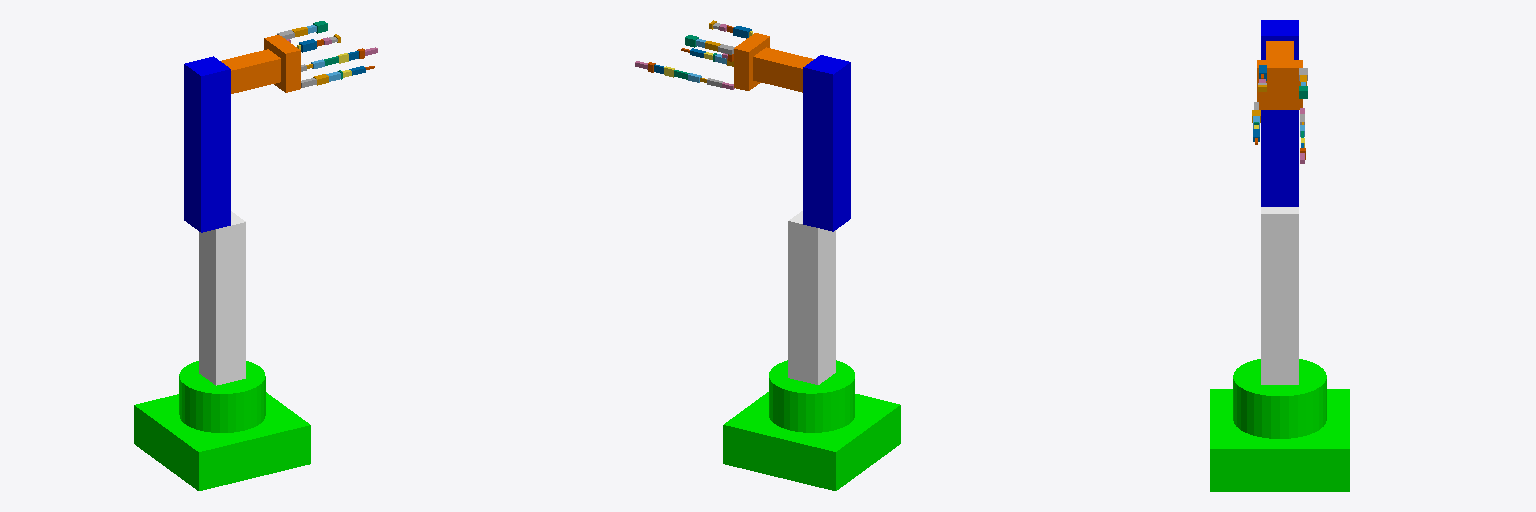
--- What the picture shows (computed from the rendered views, not written in the file) ---
Views: 3 orthographic renders of the robot side by side, from view 1: azimuth 30°, elevation 25°; view 2: azimuth 150°, elevation 25°; view 3: azimuth 270°, elevation 25°.
Model robot with 33 links and 32 joints (29 revolute, 1 continuous, 2 fixed), rooted at base_link, posed every joint at zero.
Visible links, largest first — view 1: base_link, arm_link, support_link, wrist_link, palm_link; view 2: base_link, arm_link, support_link, wrist_link, palm_link; view 3: base_link, support_link, arm_link, palm_link, wrist_link.
Boxes of the visible links, x1,y1,x2,y2 form: base_link: [134, 361, 310, 490]; arm_link: [184, 56, 230, 232]; support_link: [199, 211, 245, 385]; wrist_link: [221, 49, 280, 93]; palm_link: [264, 35, 300, 92]; base_link: [723, 360, 900, 490]; arm_link: [803, 55, 850, 231]; support_link: [788, 211, 835, 384]; wrist_link: [753, 47, 813, 92]; palm_link: [734, 33, 769, 90]; base_link: [1210, 359, 1349, 491]; support_link: [1261, 207, 1298, 384]; arm_link: [1261, 20, 1298, 206]; palm_link: [1257, 60, 1302, 109]; wrist_link: [1266, 41, 1293, 59].
Bounding box of the posed robot: 1.48 × 0.75 × 2.55 m (x, y, z).
Geometry: primitives only (box / cylinder / sphere), no mesh files.

robot.urdf — robot:
<?xml version='1.0' encoding='utf-8'?>
<robot name="robot">
  <link name="base_link">
    <visual>
      <origin xyz="0 0 0.125" rpy="0 0 0" />
      <geometry>
        <box size="0.75 0.75 0.25" />
      </geometry>
      <material name="green" />
    </visual>
    <visual>
      <origin xyz="0 0 0.375" rpy="0 0 0" />
      <geometry>
        <cylinder length="0.25" radius="0.25" />
      </geometry>
      <material name="green">
        <color rgba="0 1 0 1" />
      </material>
    </visual>
    <collision>
      <geometry>
        <box size="0.75 0.75 0.5" />
      </geometry>
    </collision>
    <inertial>
      <mass value="0.5" />
      <inertia ixx="0.034" ixy="0.0" ixz="0.0" iyy="0.034" iyz="0.0" izz="0.034" />
    </inertial>
  </link>
  <link name="support_link">
    <visual>
      <origin xyz="0 0 0.5" rpy="0 0 0" />
      <geometry>
        <box size="0.2 0.2 1" />
      </geometry>
      <material name="white">
        <color rgba="1 1 1 1" />
      </material>
    </visual>
    <collision>
      <geometry>
        <box size="0.2 0.2 1" />
      </geometry>
    </collision>
    <inertial>
      <mass value="0.1" />
      <inertia ixx="0.01" ixy="0.0" ixz="0.0" iyy="0.01" iyz="0.0" izz="0.01" />
    </inertial>
  </link>
  <joint name="support_joint" type="continuous">
    <origin xyz="0 0 0.5" rpy="0 0 0" />
    <parent link="base_link" />
    <child link="support_link" />
    <axis xyz="0 0 1" />
  </joint>
  <link name="arm_link">
    <visual>
      <origin xyz="0 0 0.5" rpy="0 0 0" />
      <geometry>
        <box size="0.2 0.2 1" />
      </geometry>
      <material name="blue">
        <color rgba="0 0 1 1" />
      </material>
    </visual>
    <collision>
      <geometry>
        <box size="0.2 0.2 1" />
      </geometry>
    </collision>
    <inertial>
      <mass value="0.1" />
      <inertia ixx="0.01" ixy="0.0" ixz="0.0" iyy="0.01" iyz="0.0" izz="0.01" />
    </inertial>
  </link>
  <joint name="arm_joint" type="revolute">
    <origin xyz="-0.1 0 1" rpy="0 0 0" />
    <parent link="support_link" />
    <child link="arm_link" />
    <axis xyz="0 1 0" />
    <limit lower="-3.14" upper="3.14" effort="1.0" velocity="1.0" />
  </joint>
  <link name="wrist_link">
    <visual>
      <origin xyz="0 0 0.25" rpy="0 0 0" />
      <geometry>
        <box size="0.15 0.15 0.5" />
      </geometry>
      <material name="orange">
        <color rgba="1 0.5 0 1" />
      </material>
    </visual>
    <collision>
      <geometry>
        <box size="0.15 0.15 0.5" />
      </geometry>
    </collision>
    <inertial>
      <mass value="0.1" />
      <inertia ixx="0.01" ixy="0.0" ixz="0.0" iyy="0.01" iyz="0.0" izz="0.01" />
    </inertial>
  </link>
  <joint name="wrist_joint" type="fixed">
    <origin xyz="0 0 0.9" rpy="0 1.571 0" />
    <parent link="arm_link" />
    <child link="wrist_link" />
  </joint>
  <link name="palm_link">
    <visual>
      <origin xyz="0 0 0.05" rpy="0 0 0" />
      <geometry>
        <box size="0.25 0.25 0.1" />
      </geometry>
      <material name="orange" />
    </visual>
    <collision>
      <geometry>
        <box size="0.25 0.25 0.1" />
      </geometry>
    </collision>
    <inertial>
      <mass value="0.1" />
      <inertia ixx="0.01" ixy="0.0" ixz="0.0" iyy="0.01" iyz="0.0" izz="0.01" />
    </inertial>
  </link>
  <joint name="palm_joint" type="fixed">
    <origin xyz="0 0 0.45" rpy="0 0 0" />
    <parent link="wrist_link" />
    <child link="palm_link" />
  </joint>
  <link name="finger_link_0_0">
    <visual>
      <origin xyz="0 0 0.013" rpy="0 0 0" />
      <geometry>
        <box size="0.042 0.039 0.026" />
      </geometry>
    </visual>
    <collision>
      <geometry>
        <box size="0.042 0.039 0.026" />
      </geometry>
    </collision>
    <inertial>
      <mass value="0.013" />
      <inertia ixx="0.0" iyy="0.0" izz="0.0" ixy="0" ixz="0" iyz="0" />
    </inertial>
  </link>
  <joint name="finger_joint_palm_link_to_finger_link_0_0" type="revolute">
    <origin xyz="-0.069 0.125 0.1" rpy="0 0 0" />
    <parent link="palm_link" />
    <child link="finger_link_0_0" />
    <axis xyz="-1.0 0.0 0.0" />
    <limit lower="-3.142" upper="3.142" effort="10" velocity="10" />
  </joint>
  <link name="finger_link_0_1">
    <visual>
      <origin xyz="0 0 0.0215" rpy="0 0 0" />
      <geometry>
        <box size="0.021 0.034 0.043" />
      </geometry>
    </visual>
    <collision>
      <geometry>
        <box size="0.021 0.034 0.043" />
      </geometry>
    </collision>
    <inertial>
      <mass value="0.009" />
      <inertia ixx="0.0" iyy="0.0" izz="0.0" ixy="0" ixz="0" iyz="0" />
    </inertial>
  </link>
  <joint name="finger_joint_finger_link_0_0_to_finger_link_0_1" type="revolute">
    <origin xyz="0.0 0.0 0.026" rpy="0 0 0" />
    <parent link="finger_link_0_0" />
    <child link="finger_link_0_1" />
    <axis xyz="0.0 1.0 0.0" />
    <limit lower="-3.142" upper="3.142" effort="10" velocity="10" />
  </joint>
  <link name="finger_link_1_0">
    <visual>
      <origin xyz="0 0 0.0495" rpy="0 0 0" />
      <geometry>
        <box size="0.033 0.029 0.099" />
      </geometry>
    </visual>
    <collision>
      <geometry>
        <box size="0.033 0.029 0.099" />
      </geometry>
    </collision>
    <inertial>
      <mass value="0.028" />
      <inertia ixx="0.0" iyy="0.0" izz="0.0" ixy="0" ixz="0" iyz="0" />
    </inertial>
  </link>
  <joint name="finger_joint_palm_link_to_finger_link_1_0" type="revolute">
    <origin xyz="0.095 -0.125 0.1" rpy="0 0 0" />
    <parent link="palm_link" />
    <child link="finger_link_1_0" />
    <axis xyz="1.0 0.0 0.0" />
    <limit lower="-3.142" upper="3.142" effort="10" velocity="10" />
  </joint>
  <link name="finger_link_1_1">
    <visual>
      <origin xyz="0 0 0.0395" rpy="0 0 0" />
      <geometry>
        <box size="0.039 0.047 0.079" />
      </geometry>
    </visual>
    <collision>
      <geometry>
        <box size="0.039 0.047 0.079" />
      </geometry>
    </collision>
    <inertial>
      <mass value="0.043" />
      <inertia ixx="0.0" iyy="0.0" izz="0.0" ixy="0" ixz="0" iyz="0" />
    </inertial>
  </link>
  <joint name="finger_joint_finger_link_1_0_to_finger_link_1_1" type="revolute">
    <origin xyz="0.0 0.0 0.099" rpy="0 0 0" />
    <parent link="finger_link_1_0" />
    <child link="finger_link_1_1" />
    <axis xyz="0.0 1.0 0.0" />
    <limit lower="-3.142" upper="3.142" effort="10" velocity="10" />
  </joint>
  <link name="finger_link_1_2">
    <visual>
      <origin xyz="0 0 0.0415" rpy="0 0 0" />
      <geometry>
        <box size="0.036 0.035 0.083" />
      </geometry>
    </visual>
    <collision>
      <geometry>
        <box size="0.036 0.035 0.083" />
      </geometry>
    </collision>
    <inertial>
      <mass value="0.031" />
      <inertia ixx="0.0" iyy="0.0" izz="0.0" ixy="0" ixz="0" iyz="0" />
    </inertial>
  </link>
  <joint name="finger_joint_finger_link_1_1_to_finger_link_1_2" type="revolute">
    <origin xyz="0.0 0.0 0.079" rpy="0 0 0" />
    <parent link="finger_link_1_1" />
    <child link="finger_link_1_2" />
    <axis xyz="1.0 0.0 0.0" />
    <limit lower="-3.142" upper="3.142" effort="10" velocity="10" />
  </joint>
  <link name="finger_link_1_3">
    <visual>
      <origin xyz="0 0 0.007" rpy="0 0 0" />
      <geometry>
        <box size="0.047 0.03 0.014" />
      </geometry>
    </visual>
    <collision>
      <geometry>
        <box size="0.047 0.03 0.014" />
      </geometry>
    </collision>
    <inertial>
      <mass value="0.006" />
      <inertia ixx="0.0" iyy="0.0" izz="0.0" ixy="0" ixz="0" iyz="0" />
    </inertial>
  </link>
  <joint name="finger_joint_finger_link_1_2_to_finger_link_1_3" type="revolute">
    <origin xyz="0.0 0.0 0.083" rpy="0 0 0" />
    <parent link="finger_link_1_2" />
    <child link="finger_link_1_3" />
    <axis xyz="0.0 1.0 0.0" />
    <limit lower="-3.142" upper="3.142" effort="10" velocity="10" />
  </joint>
  <link name="finger_link_1_4">
    <visual>
      <origin xyz="0 0 0.029" rpy="0 0 0" />
      <geometry>
        <box size="0.03 0.027 0.058" />
      </geometry>
    </visual>
    <collision>
      <geometry>
        <box size="0.03 0.027 0.058" />
      </geometry>
    </collision>
    <inertial>
      <mass value="0.014" />
      <inertia ixx="0.0" iyy="0.0" izz="0.0" ixy="0" ixz="0" iyz="0" />
    </inertial>
  </link>
  <joint name="finger_joint_finger_link_1_3_to_finger_link_1_4" type="revolute">
    <origin xyz="0.0 0.0 0.014" rpy="0 0 0" />
    <parent link="finger_link_1_3" />
    <child link="finger_link_1_4" />
    <axis xyz="0.0 1.0 0.0" />
    <limit lower="-3.142" upper="3.142" effort="10" velocity="10" />
  </joint>
  <link name="finger_link_1_5">
    <visual>
      <origin xyz="0 0 0.047" rpy="0 0 0" />
      <geometry>
        <box size="0.029 0.033 0.094" />
      </geometry>
    </visual>
    <collision>
      <geometry>
        <box size="0.029 0.033 0.094" />
      </geometry>
    </collision>
    <inertial>
      <mass value="0.027" />
      <inertia ixx="0.0" iyy="0.0" izz="0.0" ixy="0" ixz="0" iyz="0" />
    </inertial>
  </link>
  <joint name="finger_joint_finger_link_1_4_to_finger_link_1_5" type="revolute">
    <origin xyz="0.0 0.0 0.058" rpy="0 0 0" />
    <parent link="finger_link_1_4" />
    <child link="finger_link_1_5" />
    <axis xyz="0.0 1.0 0.0" />
    <limit lower="-3.142" upper="3.142" effort="10" velocity="10" />
  </joint>
  <link name="finger_link_1_6">
    <visual>
      <origin xyz="0 0 0.0315" rpy="0 0 0" />
      <geometry>
        <box size="0.013 0.014 0.063" />
      </geometry>
    </visual>
    <collision>
      <geometry>
        <box size="0.013 0.014 0.063" />
      </geometry>
    </collision>
    <inertial>
      <mass value="0.003" />
      <inertia ixx="0.0" iyy="0.0" izz="0.0" ixy="0" ixz="0" iyz="0" />
    </inertial>
  </link>
  <joint name="finger_joint_finger_link_1_5_to_finger_link_1_6" type="revolute">
    <origin xyz="0.0 0.0 0.094" rpy="0 0 0" />
    <parent link="finger_link_1_5" />
    <child link="finger_link_1_6" />
    <axis xyz="0.0 1.0 0.0" />
    <limit lower="-3.142" upper="3.142" effort="10" velocity="10" />
  </joint>
  <link name="finger_link_2_0">
    <visual>
      <origin xyz="0 0 0.038" rpy="0 0 0" />
      <geometry>
        <box size="0.025 0.024 0.076" />
      </geometry>
    </visual>
    <collision>
      <geometry>
        <box size="0.025 0.024 0.076" />
      </geometry>
    </collision>
    <inertial>
      <mass value="0.014" />
      <inertia ixx="0.0" iyy="0.0" izz="0.0" ixy="0" ixz="0" iyz="0" />
    </inertial>
  </link>
  <joint name="finger_joint_palm_link_to_finger_link_2_0" type="revolute">
    <origin xyz="0.125 0.121 0.1" rpy="0 0 0" />
    <parent link="palm_link" />
    <child link="finger_link_2_0" />
    <axis xyz="0.0 1.0 0.0" />
    <limit lower="-3.142" upper="3.142" effort="10" velocity="10" />
  </joint>
  <link name="finger_link_2_1">
    <visual>
      <origin xyz="0 0 0.0495" rpy="0 0 0" />
      <geometry>
        <box size="0.03 0.025 0.099" />
      </geometry>
    </visual>
    <collision>
      <geometry>
        <box size="0.03 0.025 0.099" />
      </geometry>
    </collision>
    <inertial>
      <mass value="0.022" />
      <inertia ixx="0.0" iyy="0.0" izz="0.0" ixy="0" ixz="0" iyz="0" />
    </inertial>
  </link>
  <joint name="finger_joint_finger_link_2_0_to_finger_link_2_1" type="revolute">
    <origin xyz="0.0 0.0 0.076" rpy="0 0 0" />
    <parent link="finger_link_2_0" />
    <child link="finger_link_2_1" />
    <axis xyz="0.0 1.0 0.0" />
    <limit lower="-3.142" upper="3.142" effort="10" velocity="10" />
  </joint>
  <link name="finger_link_2_2">
    <visual>
      <origin xyz="0 0 0.0235" rpy="0 0 0" />
      <geometry>
        <box size="0.021 0.011 0.047" />
      </geometry>
    </visual>
    <collision>
      <geometry>
        <box size="0.021 0.011 0.047" />
      </geometry>
    </collision>
    <inertial>
      <mass value="0.003" />
      <inertia ixx="0.0" iyy="0.0" izz="0.0" ixy="0" ixz="0" iyz="0" />
    </inertial>
  </link>
  <joint name="finger_joint_finger_link_2_1_to_finger_link_2_2" type="revolute">
    <origin xyz="0.0 0.0 0.099" rpy="0 0 0" />
    <parent link="finger_link_2_1" />
    <child link="finger_link_2_2" />
    <axis xyz="1.0 0.0 0.0" />
    <limit lower="-3.142" upper="3.142" effort="10" velocity="10" />
  </joint>
  <link name="finger_link_2_3">
    <visual>
      <origin xyz="0 0 0.038" rpy="0 0 0" />
      <geometry>
        <box size="0.036 0.029 0.076" />
      </geometry>
    </visual>
    <collision>
      <geometry>
        <box size="0.036 0.029 0.076" />
      </geometry>
    </collision>
    <inertial>
      <mass value="0.024" />
      <inertia ixx="0.0" iyy="0.0" izz="0.0" ixy="0" ixz="0" iyz="0" />
    </inertial>
  </link>
  <joint name="finger_joint_finger_link_2_2_to_finger_link_2_3" type="revolute">
    <origin xyz="0.0 0.0 0.047" rpy="0 0 0" />
    <parent link="finger_link_2_2" />
    <child link="finger_link_2_3" />
    <axis xyz="1.0 0.0 0.0" />
    <limit lower="-3.142" upper="3.142" effort="10" velocity="10" />
  </joint>
  <link name="finger_link_2_4">
    <visual>
      <origin xyz="0 0 0.049" rpy="0 0 0" />
      <geometry>
        <box size="0.036 0.017 0.098" />
      </geometry>
    </visual>
    <collision>
      <geometry>
        <box size="0.036 0.017 0.098" />
      </geometry>
    </collision>
    <inertial>
      <mass value="0.018" />
      <inertia ixx="0.0" iyy="0.0" izz="0.0" ixy="0" ixz="0" iyz="0" />
    </inertial>
  </link>
  <joint name="finger_joint_finger_link_2_3_to_finger_link_2_4" type="revolute">
    <origin xyz="0.0 0.0 0.076" rpy="0 0 0" />
    <parent link="finger_link_2_3" />
    <child link="finger_link_2_4" />
    <axis xyz="0.0 1.0 0.0" />
    <limit lower="-3.142" upper="3.142" effort="10" velocity="10" />
  </joint>
  <link name="finger_link_2_5">
    <visual>
      <origin xyz="0 0 0.0315" rpy="0 0 0" />
      <geometry>
        <box size="0.049 0.02 0.063" />
      </geometry>
    </visual>
    <collision>
      <geometry>
        <box size="0.049 0.02 0.063" />
      </geometry>
    </collision>
    <inertial>
      <mass value="0.019" />
      <inertia ixx="0.0" iyy="0.0" izz="0.0" ixy="0" ixz="0" iyz="0" />
    </inertial>
  </link>
  <joint name="finger_joint_finger_link_2_4_to_finger_link_2_5" type="revolute">
    <origin xyz="0.0 0.0 0.098" rpy="0 0 0" />
    <parent link="finger_link_2_4" />
    <child link="finger_link_2_5" />
    <axis xyz="0.0 1.0 0.0" />
    <limit lower="-3.142" upper="3.142" effort="10" velocity="10" />
  </joint>
  <link name="finger_link_2_6">
    <visual>
      <origin xyz="0 0 0.035" rpy="0 0 0" />
      <geometry>
        <box size="0.043 0.016 0.07" />
      </geometry>
    </visual>
    <collision>
      <geometry>
        <box size="0.043 0.016 0.07" />
      </geometry>
    </collision>
    <inertial>
      <mass value="0.014" />
      <inertia ixx="0.0" iyy="0.0" izz="0.0" ixy="0" ixz="0" iyz="0" />
    </inertial>
  </link>
  <joint name="finger_joint_finger_link_2_5_to_finger_link_2_6" type="revolute">
    <origin xyz="0.0 0.0 0.063" rpy="0 0 0" />
    <parent link="finger_link_2_5" />
    <child link="finger_link_2_6" />
    <axis xyz="0.0 1.0 0.0" />
    <limit lower="-3.142" upper="3.142" effort="10" velocity="10" />
  </joint>
  <link name="finger_link_2_7">
    <visual>
      <origin xyz="0 0 0.019" rpy="0 0 0" />
      <geometry>
        <box size="0.05 0.03 0.038" />
      </geometry>
    </visual>
    <collision>
      <geometry>
        <box size="0.05 0.03 0.038" />
      </geometry>
    </collision>
    <inertial>
      <mass value="0.017" />
      <inertia ixx="0.0" iyy="0.0" izz="0.0" ixy="0" ixz="0" iyz="0" />
    </inertial>
  </link>
  <joint name="finger_joint_finger_link_2_6_to_finger_link_2_7" type="revolute">
    <origin xyz="0.0 0.0 0.07" rpy="0 0 0" />
    <parent link="finger_link_2_6" />
    <child link="finger_link_2_7" />
    <axis xyz="0.0 1.0 0.0" />
    <limit lower="-3.142" upper="3.142" effort="10" velocity="10" />
  </joint>
  <link name="finger_link_2_8">
    <visual>
      <origin xyz="0 0 0.0425" rpy="0 0 0" />
      <geometry>
        <box size="0.027 0.025 0.085" />
      </geometry>
    </visual>
    <collision>
      <geometry>
        <box size="0.027 0.025 0.085" />
      </geometry>
    </collision>
    <inertial>
      <mass value="0.017" />
      <inertia ixx="0.0" iyy="0.0" izz="0.0" ixy="0" ixz="0" iyz="0" />
    </inertial>
  </link>
  <joint name="finger_joint_finger_link_2_7_to_finger_link_2_8" type="revolute">
    <origin xyz="0.0 0.0 0.038" rpy="0 0 0" />
    <parent link="finger_link_2_7" />
    <child link="finger_link_2_8" />
    <axis xyz="0.0 1.0 0.0" />
    <limit lower="-3.142" upper="3.142" effort="10" velocity="10" />
  </joint>
  <link name="finger_link_3_0">
    <visual>
      <origin xyz="0 0 0.046" rpy="0 0 0" />
      <geometry>
        <box size="0.03 0.049 0.092" />
      </geometry>
    </visual>
    <collision>
      <geometry>
        <box size="0.03 0.049 0.092" />
      </geometry>
    </collision>
    <inertial>
      <mass value="0.041" />
      <inertia ixx="0.0" iyy="0.0" izz="0.0" ixy="0" ixz="0" iyz="0" />
    </inertial>
  </link>
  <joint name="finger_joint_palm_link_to_finger_link_3_0" type="revolute">
    <origin xyz="-0.108 0.125 0.1" rpy="0 0 0" />
    <parent link="palm_link" />
    <child link="finger_link_3_0" />
    <axis xyz="-1.0 0.0 0.0" />
    <limit lower="-3.142" upper="3.142" effort="10" velocity="10" />
  </joint>
  <link name="finger_link_3_1">
    <visual>
      <origin xyz="0 0 0.046" rpy="0 0 0" />
      <geometry>
        <box size="0.037 0.035 0.092" />
      </geometry>
    </visual>
    <collision>
      <geometry>
        <box size="0.037 0.035 0.092" />
      </geometry>
    </collision>
    <inertial>
      <mass value="0.036" />
      <inertia ixx="0.0" iyy="0.0" izz="0.0" ixy="0" ixz="0" iyz="0" />
    </inertial>
  </link>
  <joint name="finger_joint_finger_link_3_0_to_finger_link_3_1" type="revolute">
    <origin xyz="0.0 0.0 0.092" rpy="0 0 0" />
    <parent link="finger_link_3_0" />
    <child link="finger_link_3_1" />
    <axis xyz="1.0 0.0 0.0" />
    <limit lower="-3.142" upper="3.142" effort="10" velocity="10" />
  </joint>
  <link name="finger_link_3_2">
    <visual>
      <origin xyz="0 0 0.0295" rpy="0 0 0" />
      <geometry>
        <box size="0.035 0.028 0.059" />
      </geometry>
    </visual>
    <collision>
      <geometry>
        <box size="0.035 0.028 0.059" />
      </geometry>
    </collision>
    <inertial>
      <mass value="0.017" />
      <inertia ixx="0.0" iyy="0.0" izz="0.0" ixy="0" ixz="0" iyz="0" />
    </inertial>
  </link>
  <joint name="finger_joint_finger_link_3_1_to_finger_link_3_2" type="revolute">
    <origin xyz="0.0 0.0 0.092" rpy="0 0 0" />
    <parent link="finger_link_3_1" />
    <child link="finger_link_3_2" />
    <axis xyz="0.0 1.0 0.0" />
    <limit lower="-3.142" upper="3.142" effort="10" velocity="10" />
  </joint>
  <link name="finger_link_3_3">
    <visual>
      <origin xyz="0 0 0.034" rpy="0 0 0" />
      <geometry>
        <box size="0.048 0.049 0.068" />
      </geometry>
    </visual>
    <collision>
      <geometry>
        <box size="0.048 0.049 0.068" />
      </geometry>
    </collision>
    <inertial>
      <mass value="0.048" />
      <inertia ixx="0.0" iyy="0.0" izz="0.0" ixy="0" ixz="0" iyz="0" />
    </inertial>
  </link>
  <joint name="finger_joint_finger_link_3_2_to_finger_link_3_3" type="revolute">
    <origin xyz="0.0 0.0 0.059" rpy="0 0 0" />
    <parent link="finger_link_3_2" />
    <child link="finger_link_3_3" />
    <axis xyz="0.0 1.0 0.0" />
    <limit lower="-3.142" upper="3.142" effort="10" velocity="10" />
  </joint>
  <link name="finger_link_4_0">
    <visual>
      <origin xyz="0 0 0.0095" rpy="0 0 0" />
      <geometry>
        <box size="0.033 0.017 0.019" />
      </geometry>
    </visual>
    <collision>
      <geometry>
        <box size="0.033 0.017 0.019" />
      </geometry>
    </collision>
    <inertial>
      <mass value="0.003" />
      <inertia ixx="0.0" iyy="0.0" izz="0.0" ixy="0" ixz="0" iyz="0" />
    </inertial>
  </link>
  <joint name="finger_joint_palm_link_to_finger_link_4_0" type="revolute">
    <origin xyz="-0.125 -0.093 0.1" rpy="0 0 0" />
    <parent link="palm_link" />
    <child link="finger_link_4_0" />
    <axis xyz="0.0 -1.0 0.0" />
    <limit lower="-3.142" upper="3.142" effort="10" velocity="10" />
  </joint>
  <link name="finger_link_4_1">
    <visual>
      <origin xyz="0 0 0.048" rpy="0 0 0" />
      <geometry>
        <box size="0.047 0.043 0.096" />
      </geometry>
    </visual>
    <collision>
      <geometry>
        <box size="0.047 0.043 0.096" />
      </geometry>
    </collision>
    <inertial>
      <mass value="0.058" />
      <inertia ixx="0.0" iyy="0.0" izz="0.0" ixy="0" ixz="0" iyz="0" />
    </inertial>
  </link>
  <joint name="finger_joint_finger_link_4_0_to_finger_link_4_1" type="revolute">
    <origin xyz="0.0 0.0 0.019" rpy="0 0 0" />
    <parent link="finger_link_4_0" />
    <child link="finger_link_4_1" />
    <axis xyz="0.0 1.0 0.0" />
    <limit lower="-3.142" upper="3.142" effort="10" velocity="10" />
  </joint>
  <link name="finger_link_4_2">
    <visual>
      <origin xyz="0 0 0.0275" rpy="0 0 0" />
      <geometry>
        <box size="0.034 0.012 0.055" />
      </geometry>
    </visual>
    <collision>
      <geometry>
        <box size="0.034 0.012 0.055" />
      </geometry>
    </collision>
    <inertial>
      <mass value="0.007" />
      <inertia ixx="0.0" iyy="0.0" izz="0.0" ixy="0" ixz="0" iyz="0" />
    </inertial>
  </link>
  <joint name="finger_joint_finger_link_4_1_to_finger_link_4_2" type="revolute">
    <origin xyz="0.0 0.0 0.096" rpy="0 0 0" />
    <parent link="finger_link_4_1" />
    <child link="finger_link_4_2" />
    <axis xyz="1.0 1.0 0.0" />
    <limit lower="-3.142" upper="3.142" effort="10" velocity="10" />
  </joint>
  <link name="finger_link_4_3">
    <visual>
      <origin xyz="0 0 0.0215" rpy="0 0 0" />
      <geometry>
        <box size="0.025 0.042 0.043" />
      </geometry>
    </visual>
    <collision>
      <geometry>
        <box size="0.025 0.042 0.043" />
      </geometry>
    </collision>
    <inertial>
      <mass value="0.014" />
      <inertia ixx="0.0" iyy="0.0" izz="0.0" ixy="0" ixz="0" iyz="0" />
    </inertial>
  </link>
  <joint name="finger_joint_finger_link_4_2_to_finger_link_4_3" type="revolute">
    <origin xyz="0.0 0.0 0.055" rpy="0 0 0" />
    <parent link="finger_link_4_2" />
    <child link="finger_link_4_3" />
    <axis xyz="1.0 0.0 0.0" />
    <limit lower="-3.142" upper="3.142" effort="10" velocity="10" />
  </joint>
  <link name="finger_link_4_4">
    <visual>
      <origin xyz="0 0 0.0205" rpy="0 0 0" />
      <geometry>
        <box size="0.017 0.044 0.041" />
      </geometry>
    </visual>
    <collision>
      <geometry>
        <box size="0.017 0.044 0.041" />
      </geometry>
    </collision>
    <inertial>
      <mass value="0.009" />
      <inertia ixx="0.0" iyy="0.0" izz="0.0" ixy="0" ixz="0" iyz="0" />
    </inertial>
  </link>
  <joint name="finger_joint_finger_link_4_3_to_finger_link_4_4" type="revolute">
    <origin xyz="0.0 0.0 0.043" rpy="0 0 0" />
    <parent link="finger_link_4_3" />
    <child link="finger_link_4_4" />
    <axis xyz="0.0 1.0 0.0" />
    <limit lower="-3.142" upper="3.142" effort="10" velocity="10" />
  </joint>
  <link name="finger_link_4_5">
    <visual>
      <origin xyz="0 0 0.01" rpy="0 0 0" />
      <geometry>
        <box size="0.034 0.048 0.02" />
      </geometry>
    </visual>
    <collision>
      <geometry>
        <box size="0.034 0.048 0.02" />
      </geometry>
    </collision>
    <inertial>
      <mass value="0.01" />
      <inertia ixx="0.0" iyy="0.0" izz="0.0" ixy="0" ixz="0" iyz="0" />
    </inertial>
  </link>
  <joint name="finger_joint_finger_link_4_4_to_finger_link_4_5" type="revolute">
    <origin xyz="0.0 0.0 0.041" rpy="0 0 0" />
    <parent link="finger_link_4_4" />
    <child link="finger_link_4_5" />
    <axis xyz="1.0 0.0 0.0" />
    <limit lower="-3.142" upper="3.142" effort="10" velocity="10" />
  </joint>
</robot>
